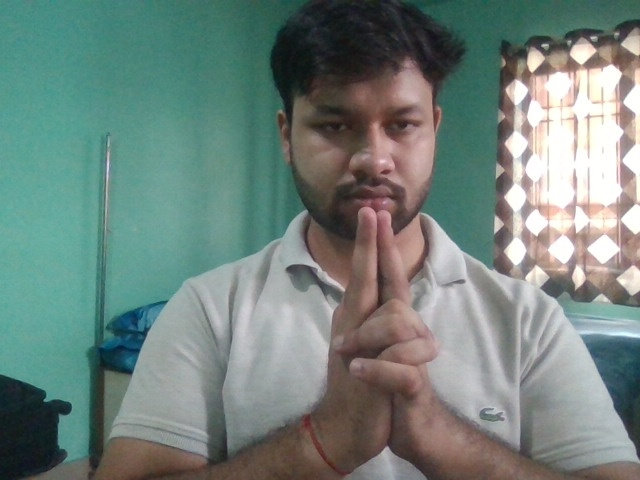1000 Years of Death: (305, 200, 452, 473)
